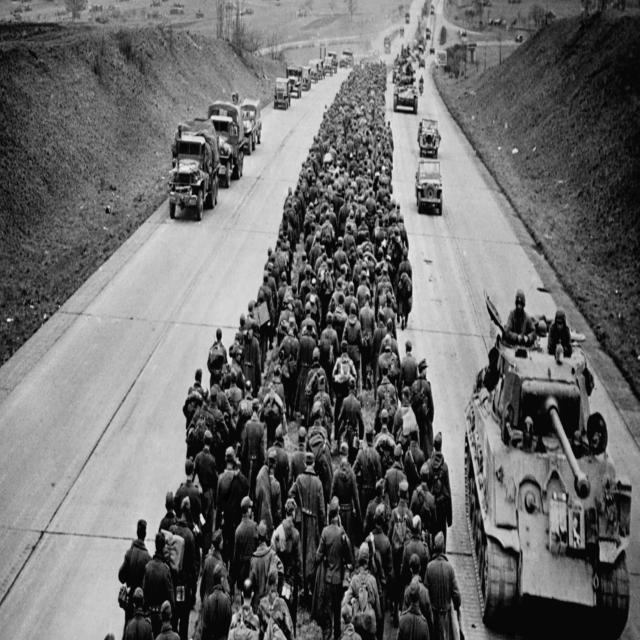body: (276, 41, 425, 320), (233, 232, 276, 376), (288, 451, 327, 598), (315, 494, 351, 640), (270, 497, 304, 639), (167, 495, 197, 640), (424, 530, 462, 640), (502, 288, 536, 405), (118, 520, 153, 632), (388, 477, 413, 629), (423, 431, 452, 561), (246, 518, 285, 614), (340, 540, 383, 625), (193, 428, 218, 569), (229, 494, 259, 608), (329, 441, 361, 546), (352, 420, 382, 522), (276, 314, 303, 424), (215, 444, 238, 572), (256, 563, 294, 640), (402, 553, 434, 640), (142, 530, 175, 613), (332, 338, 357, 441), (340, 301, 366, 398), (410, 358, 434, 463), (240, 398, 265, 498), (200, 562, 232, 640), (370, 503, 396, 599), (265, 422, 290, 520), (199, 528, 231, 602), (336, 376, 364, 460), (399, 513, 431, 586), (395, 577, 431, 640), (305, 346, 330, 434), (409, 460, 437, 534), (228, 577, 260, 640), (294, 324, 316, 415), (357, 292, 377, 391), (320, 310, 340, 406), (391, 385, 421, 449), (382, 441, 409, 511), (174, 459, 202, 526), (373, 359, 398, 434), (363, 477, 390, 538), (124, 586, 154, 640), (371, 308, 388, 402), (404, 429, 424, 506), (206, 327, 228, 390), (397, 246, 413, 332), (398, 340, 420, 402), (287, 426, 307, 493), (376, 333, 399, 390), (378, 318, 402, 372), (207, 384, 230, 440), (548, 306, 573, 357), (266, 447, 282, 526), (334, 600, 363, 640), (155, 599, 181, 640), (313, 374, 334, 424), (331, 293, 349, 351), (334, 263, 349, 328), (226, 369, 243, 424), (332, 236, 352, 282), (214, 369, 233, 416), (307, 400, 328, 441), (268, 364, 286, 411), (229, 342, 246, 390), (158, 491, 176, 535), (382, 290, 397, 342), (237, 379, 254, 423), (374, 408, 394, 445), (343, 280, 360, 320), (356, 270, 372, 311), (187, 368, 204, 405), (332, 278, 346, 312), (202, 387, 209, 402), (104, 632, 116, 640)
